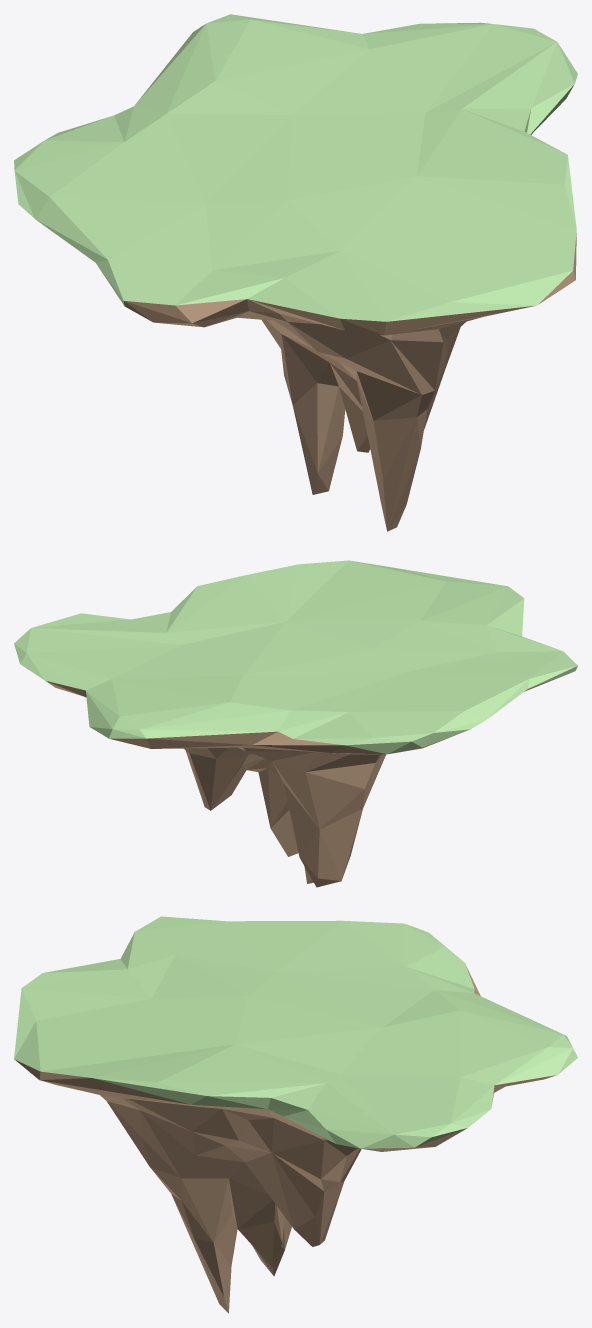
The model's file is island5_Green.fbx.
The picture shows the model from 3 angles, top to bottom: view 1: azimuth 30°, elevation 25°; view 2: azimuth 150°, elevation 25°; view 3: azimuth 270°, elevation 25°; orthographic projection. The views are drawn at different scales.
Parts seen in each view (by area): view 1: island5; view 2: island5; view 3: island5.
Boxes of the visible parts, x1=… form: island5: x1=14, y1=14, x2=577, y2=531; island5: x1=14, y1=560, x2=577, y2=887; island5: x1=14, y1=916, x2=577, y2=1313.
Size of the model in its own units: 64.02 by 37.17 by 66.15.
